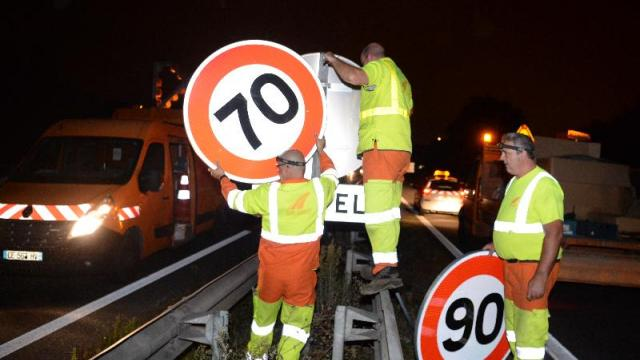Speed_limit_70km: (181, 37, 325, 186)
Speed_limit_90km: (414, 251, 518, 360)
